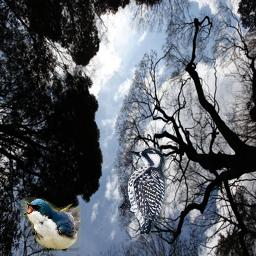Swallow: (21, 197, 81, 253)
Woodpecker: (118, 145, 167, 234)
